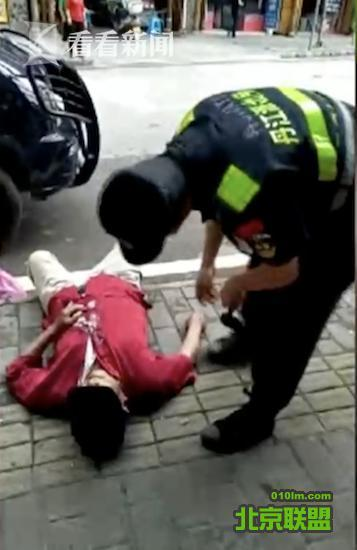Fall-Detected: (3, 231, 207, 472)
